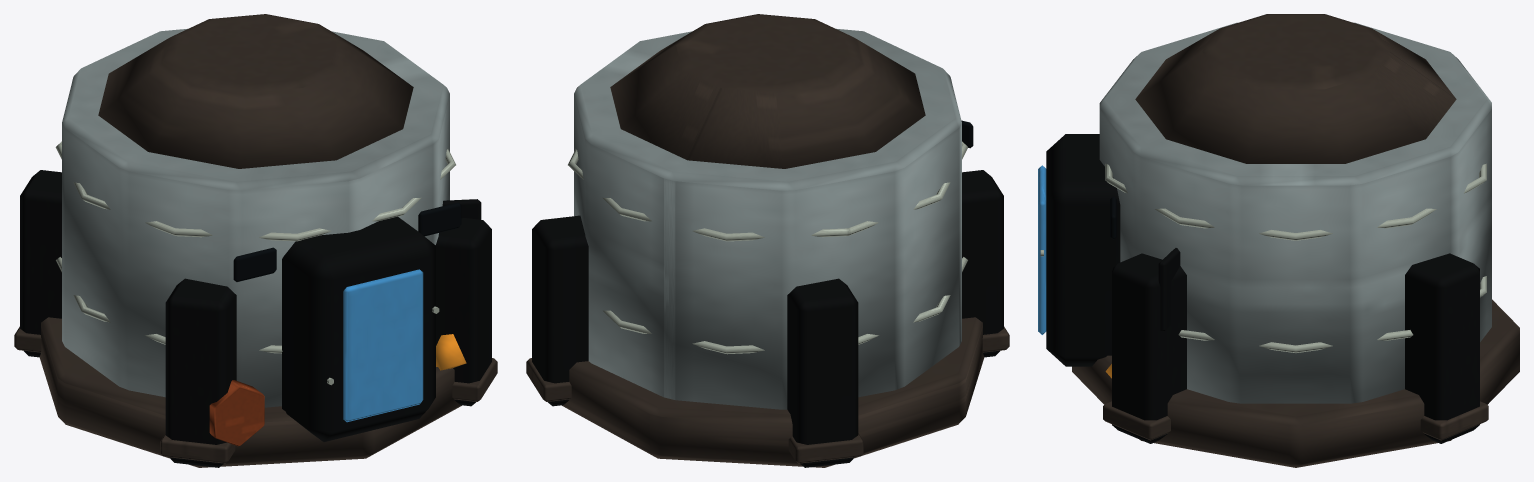
Rendered from bastion-shelter-low.glb.
The picture shows the model from 3 angles, left to right: view 1: azimuth 30°, elevation 25°; view 2: azimuth 150°, elevation 25°; view 3: azimuth 270°, elevation 25°; orthographic projection.
Parts seen in each view (by area): view 1: Bastion_Shell.001, Bastion_Roof.001, Bastion_Airlock.001, Bastion_Foundation.001, Bastion_Door.001, Bastion_Buttress_2.001, Bastion_Buttress_3.001, Bastion_Buttress_1.001, PORT_Material.008, Bastion_Pressure_Seam_High.001, Bastion_Foot_2.001, Bastion_Slit_-0.001 (+6 smaller); view 2: Bastion_Shell.001, Bastion_Roof.001, Bastion_Foundation.001, Bastion_Buttress_1.001, Bastion_Buttress_0.001, Bastion_Buttress_2.001, Bastion_Pressure_Seam_High.001, Bastion_Foot_1.001, Bastion_Pressure_Seam_Low.001, Bastion_Foot_0.001, Bastion_Foot_2.001; view 3: Bastion_Shell.001, Bastion_Roof.001, Bastion_Foundation.001, Bastion_Airlock.001, Bastion_Buttress_0.001, Bastion_Buttress_3.001, Bastion_Pressure_Seam_High.001, Bastion_Door.001, Bastion_Foot_0.001, Bastion_Foot_3.001, Bastion_Pressure_Seam_Low.001, Bastion_Service_Hatch.001.
Boxes of the visible parts, <box> form: Bastion_Shell.001: <box>62,28,449,407</box>; Bastion_Roof.001: <box>98,14,413,168</box>; Bastion_Airlock.001: <box>282,216,435,441</box>; Bastion_Foundation.001: <box>39,317,461,467</box>; Bastion_Door.001: <box>343,269,423,422</box>; Bastion_Buttress_2.001: <box>165,278,236,467</box>; Bastion_Buttress_3.001: <box>435,218,491,406</box>; Bastion_Buttress_1.001: <box>20,170,61,357</box>; PORT_Material.008: <box>209,380,264,446</box>; Bastion_Pressure_Seam_High.001: <box>55,141,455,241</box>; Bastion_Foot_2.001: <box>160,433,235,463</box>; Bastion_Slit_-0.001: <box>233,247,276,281</box>; Bastion_Shell.001: <box>574,28,961,409</box>; Bastion_Roof.001: <box>610,14,925,168</box>; Bastion_Foundation.001: <box>562,317,984,467</box>; Bastion_Buttress_1.001: <box>787,278,858,467</box>; Bastion_Buttress_0.001: <box>532,215,588,406</box>; Bastion_Buttress_2.001: <box>962,170,1003,357</box>; Bastion_Pressure_Seam_High.001: <box>568,141,968,241</box>; Bastion_Foot_1.001: <box>788,433,863,463</box>; Bastion_Pressure_Seam_Low.001: <box>603,257,967,354</box>; Bastion_Foot_0.001: <box>526,358,571,401</box>; Bastion_Foot_2.001: <box>982,326,1009,352</box>; Bastion_Shell.001: <box>1099,22,1491,403</box>; Bastion_Roof.001: <box>1135,14,1456,163</box>; Bastion_Foundation.001: <box>1072,299,1519,467</box>; Bastion_Airlock.001: <box>1046,134,1120,366</box>; Bastion_Buttress_0.001: <box>1405,253,1479,443</box>; Bastion_Buttress_3.001: <box>1112,253,1186,443</box>; Bastion_Pressure_Seam_High.001: <box>1105,163,1486,240</box>; Bastion_Door.001: <box>1038,165,1046,334</box>; Bastion_Foot_0.001: <box>1420,401,1488,440</box>; Bastion_Foot_3.001: <box>1103,401,1170,440</box>; Bastion_Pressure_Seam_Low.001: <box>1178,276,1486,352</box>; Bastion_Service_Hatch.001: <box>1158,248,1180,331</box>.
Size of the model in its own units: 1.26 by 1.02 by 1.36.
8 materials, 8 textured.
